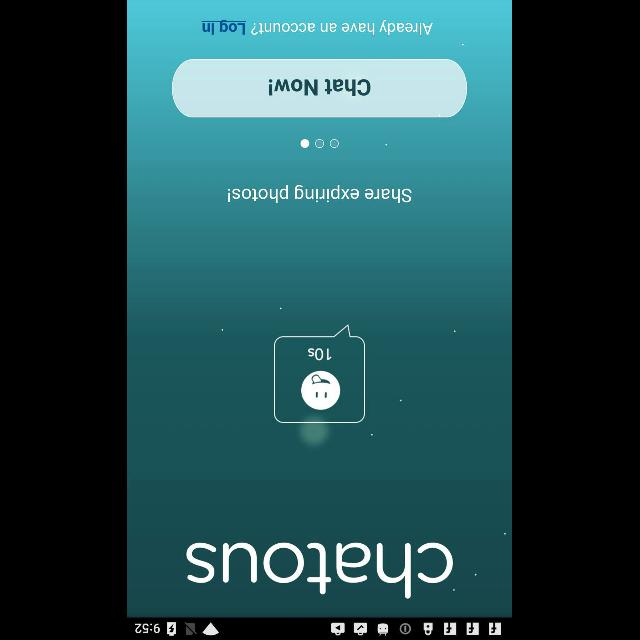image: (274, 324, 366, 424)
pageindicator: (300, 139, 340, 149)
text: (188, 542, 454, 598), (229, 184, 413, 203), (252, 20, 434, 36), (202, 20, 248, 34)
textbutton: (172, 59, 468, 118)
uppertaskbar: (128, 617, 512, 639)
